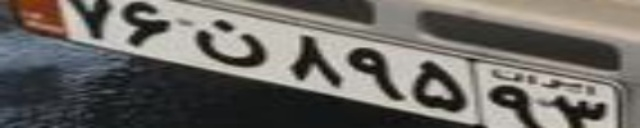3: (549, 93, 609, 126)
5: (408, 60, 466, 113)
6: (120, 0, 171, 48)
7: (62, 0, 112, 41)
8: (289, 33, 342, 88)
9: (345, 43, 400, 101), (485, 83, 540, 127)
non: (188, 19, 268, 69)
